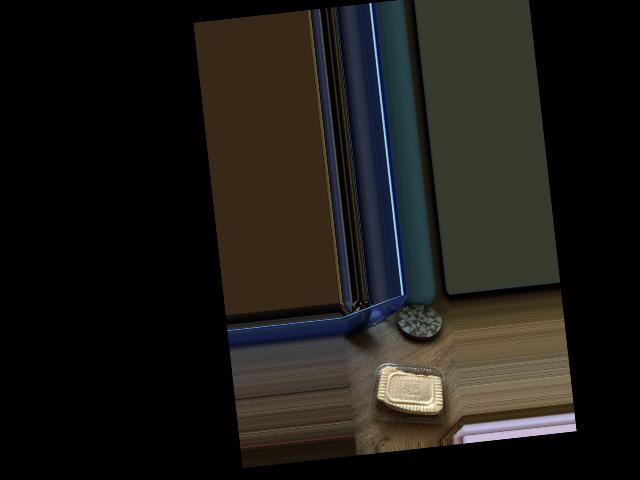cheese: (373, 351, 461, 446)
